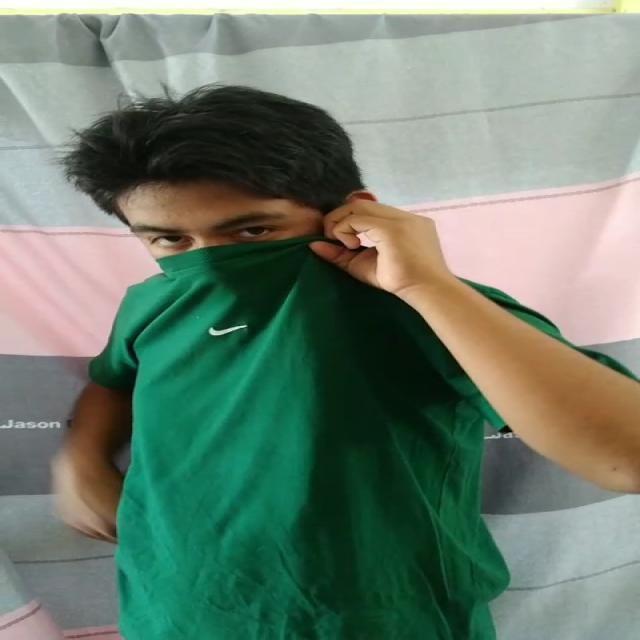8_ropa_rostro: (137, 235, 449, 368)
